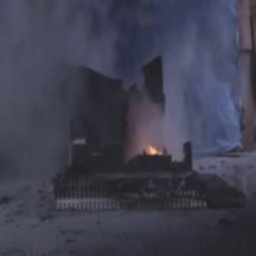fire: (132, 138, 170, 167)
smoke: (3, 2, 235, 134)
